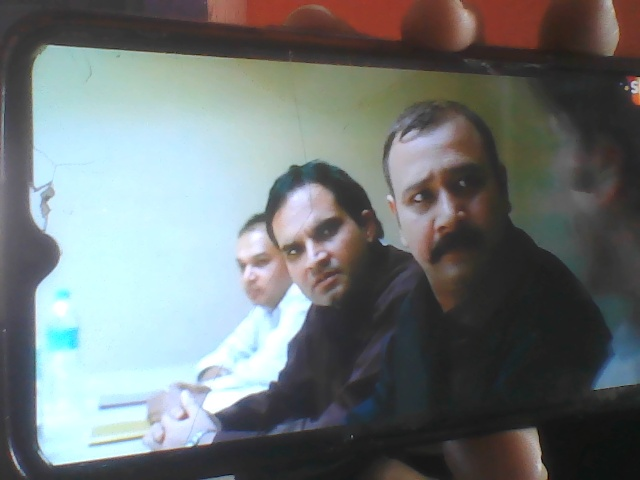fake: (380, 90, 524, 294), (256, 152, 380, 328)
